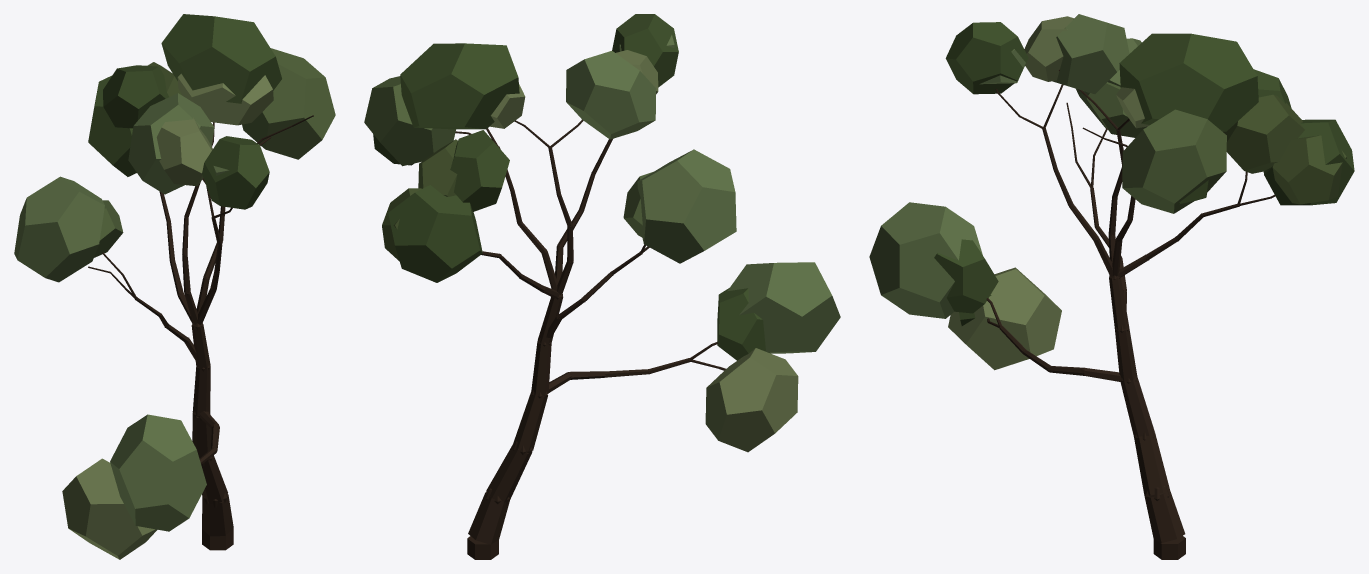
The model's file is tree.glb.
3 views of the same model, side by side, from view 1: azimuth 30°, elevation 25°; view 2: azimuth 150°, elevation 25°; view 3: azimuth 270°, elevation 25° (orthographic).
Parts seen in each view (by area): view 1: tree_LOD0; view 2: tree_LOD0; view 3: tree_LOD0.
Part boxes in pixels (x1,y1,x2,y2): tree_LOD0: [14, 14, 335, 559]; tree_LOD0: [364, 14, 840, 559]; tree_LOD0: [869, 14, 1354, 559].
Size of what is drawn, in the model's own units: 7.69 by 11.48 by 9.63.
